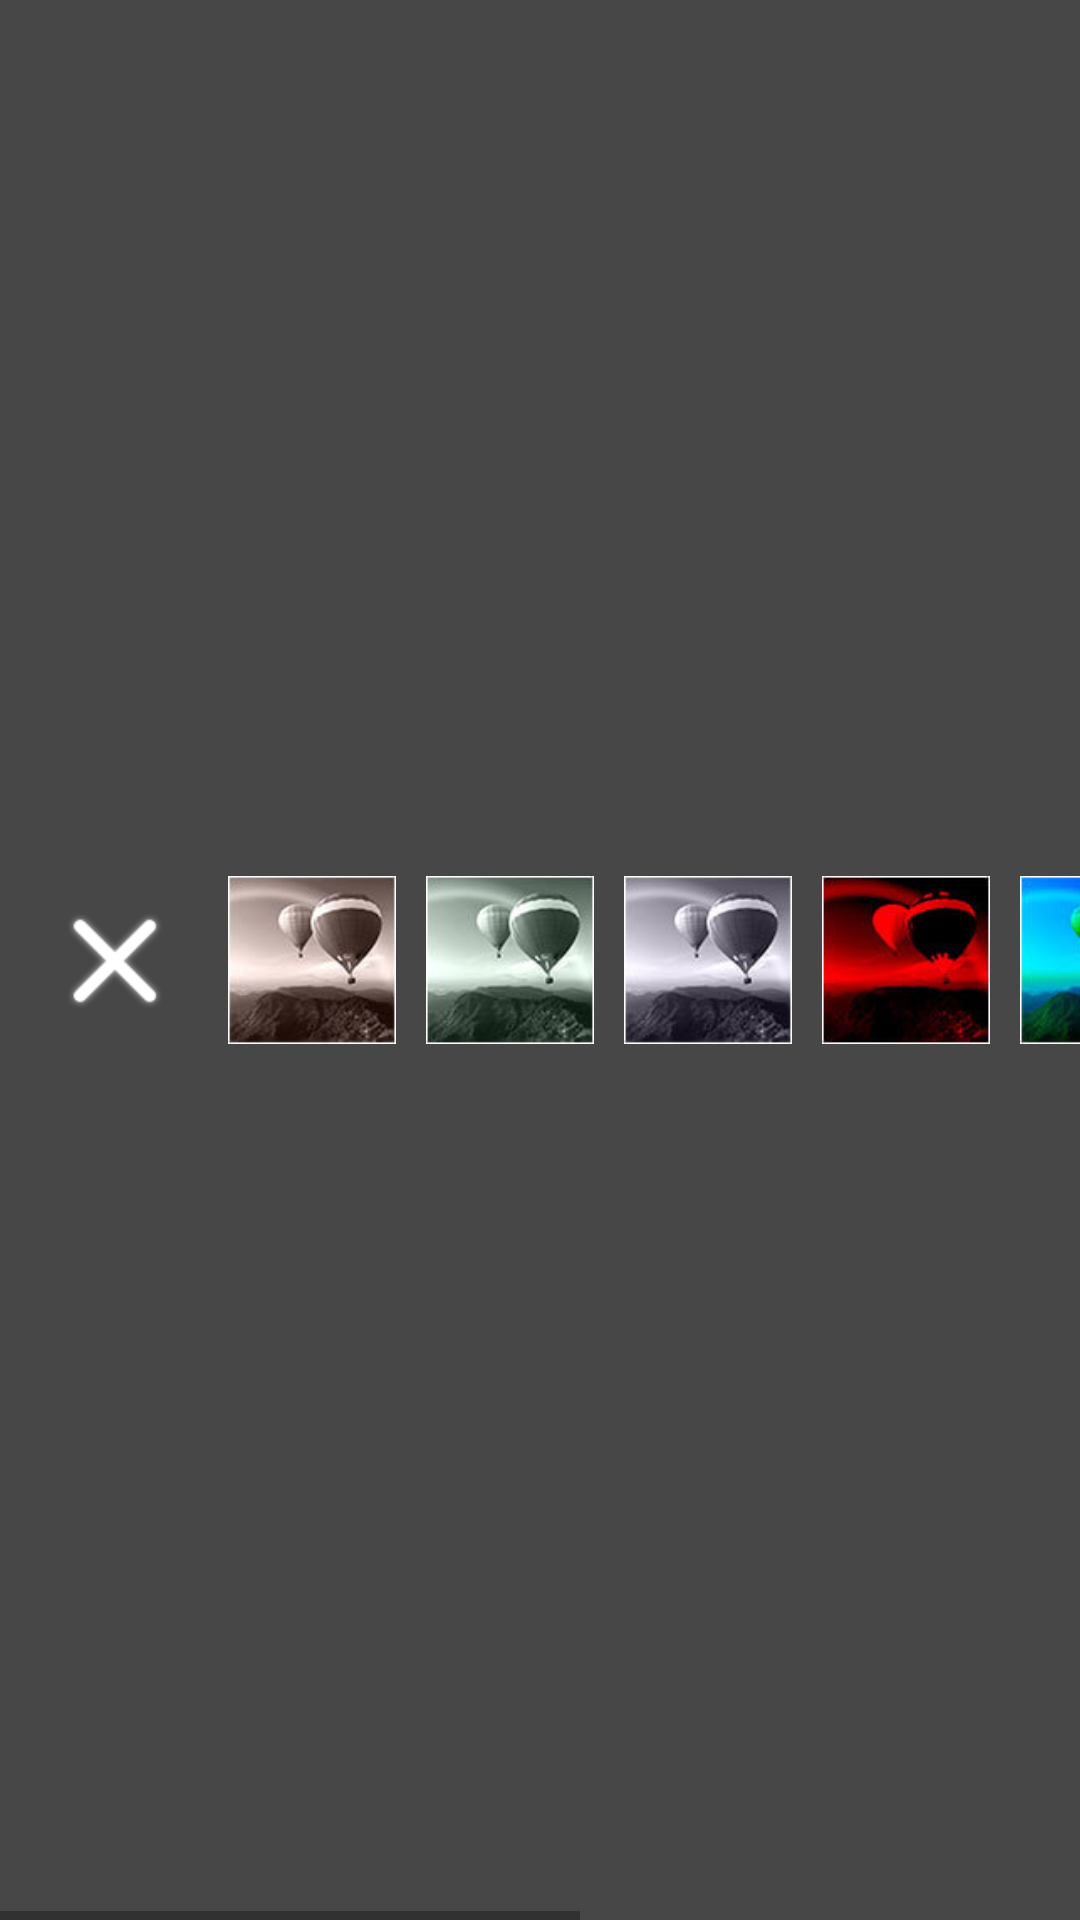

Point at icon controls on the screen. Image size 1080w x 1920h, points as [x,y].
clear: [114,960]
